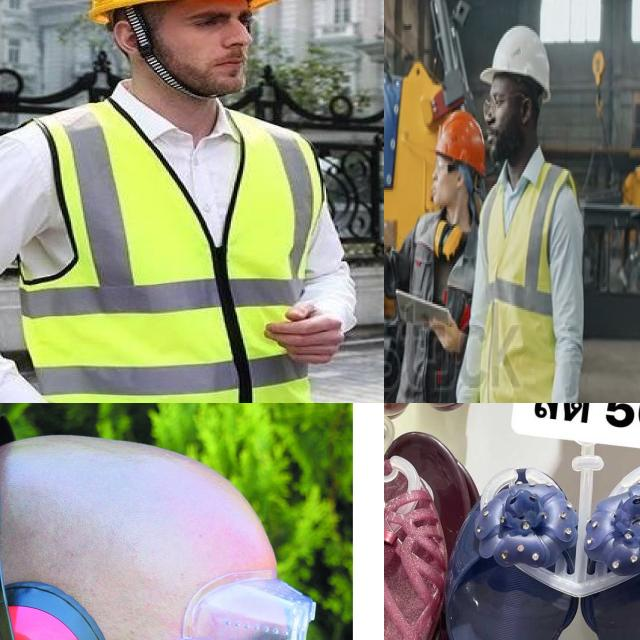Ear-protection: (432, 210, 468, 274)
Sandals: (421, 449, 640, 640), (384, 409, 447, 640)
face_nomask: (183, 4, 259, 94)
glasses: (97, 567, 319, 640), (483, 83, 523, 118), (432, 157, 464, 180)
hand_noglove: (259, 294, 345, 369)
head_helmet: (82, 0, 280, 26), (478, 24, 555, 90), (431, 104, 486, 176)
person: (0, 0, 368, 403), (469, 20, 589, 403)
vest: (16, 107, 334, 403), (480, 159, 580, 403)
